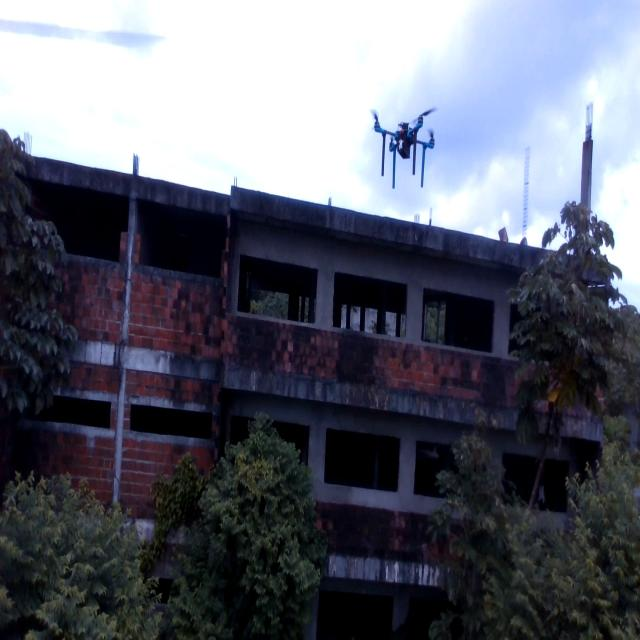-uav-: (365, 96, 442, 203)
